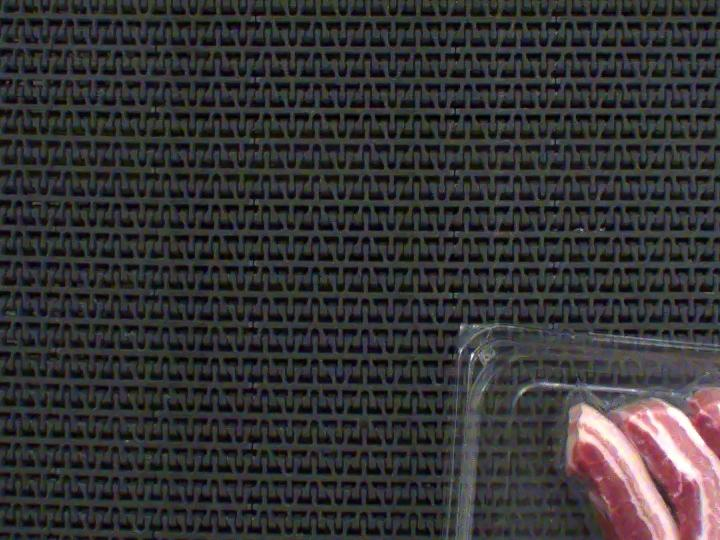unsealed: (530, 347, 720, 480)
